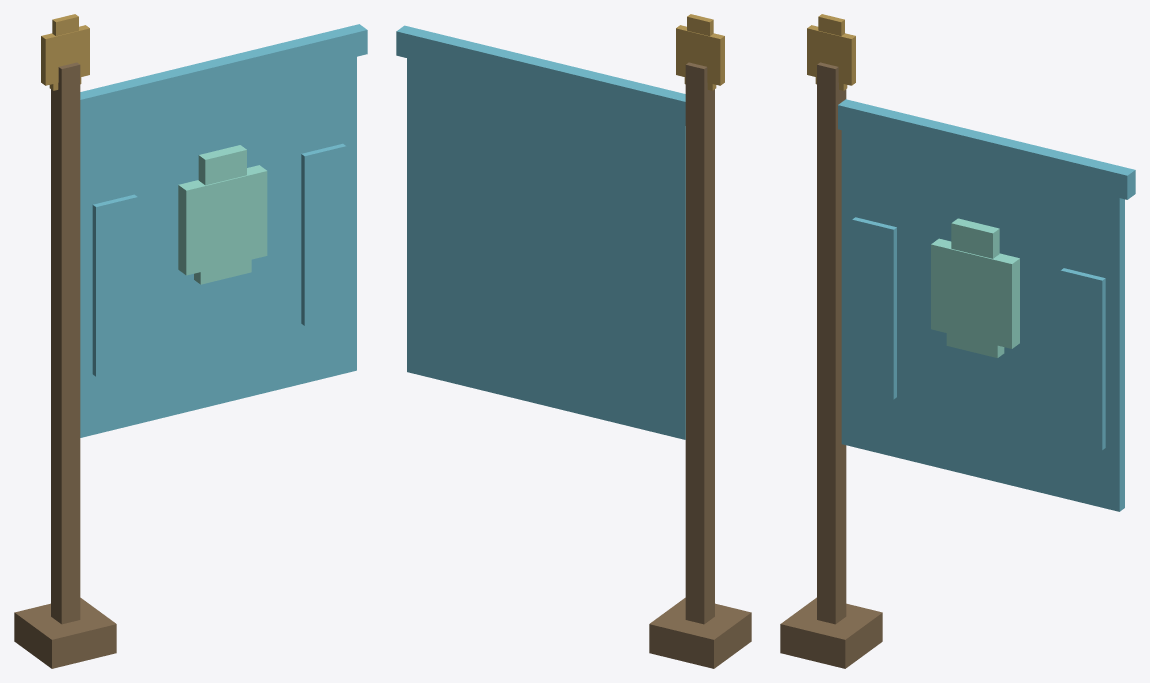
The model's file is cosmetic_banner_northlight_banner.glb.
The picture shows the model from 3 angles, left to right: view 1: azimuth 30°, elevation 25°; view 2: azimuth 150°, elevation 25°; view 3: azimuth 330°, elevation 25°; orthographic projection.
Parts seen in each view (by area): view 1: CosmeticArt_cloth, CosmeticArt_pole, CosmeticArt_crest, CosmeticArt_finial; view 2: CosmeticArt_cloth, CosmeticArt_pole, CosmeticArt_finial; view 3: CosmeticArt_cloth, CosmeticArt_pole, CosmeticArt_crest, CosmeticArt_finial.
Boxes of the visible parts, x1=… form: CosmeticArt_cloth: x1=80, y1=24, x2=367, y2=437; CosmeticArt_pole: x1=14, y1=62, x2=116, y2=668; CosmeticArt_crest: x1=178, y1=145, x2=267, y2=284; CosmeticArt_finial: x1=41, y1=14, x2=89, y2=90; CosmeticArt_cloth: x1=396, y1=25, x2=685, y2=439; CosmeticArt_pole: x1=649, y1=62, x2=751, y2=668; CosmeticArt_finial: x1=676, y1=14, x2=724, y2=90; CosmeticArt_cloth: x1=838, y1=99, x2=1135, y2=511; CosmeticArt_pole: x1=780, y1=62, x2=882, y2=668; CosmeticArt_crest: x1=931, y1=218, x2=1019, y2=357; CosmeticArt_finial: x1=807, y1=14, x2=855, y2=90.
Size of the model in its own units: 1.43 by 2.6 by 0.28.
